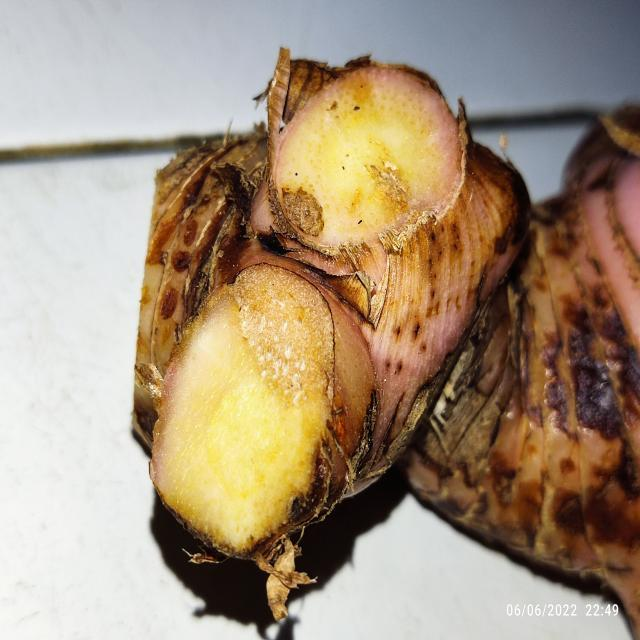ginger: (154, 63, 640, 558)
